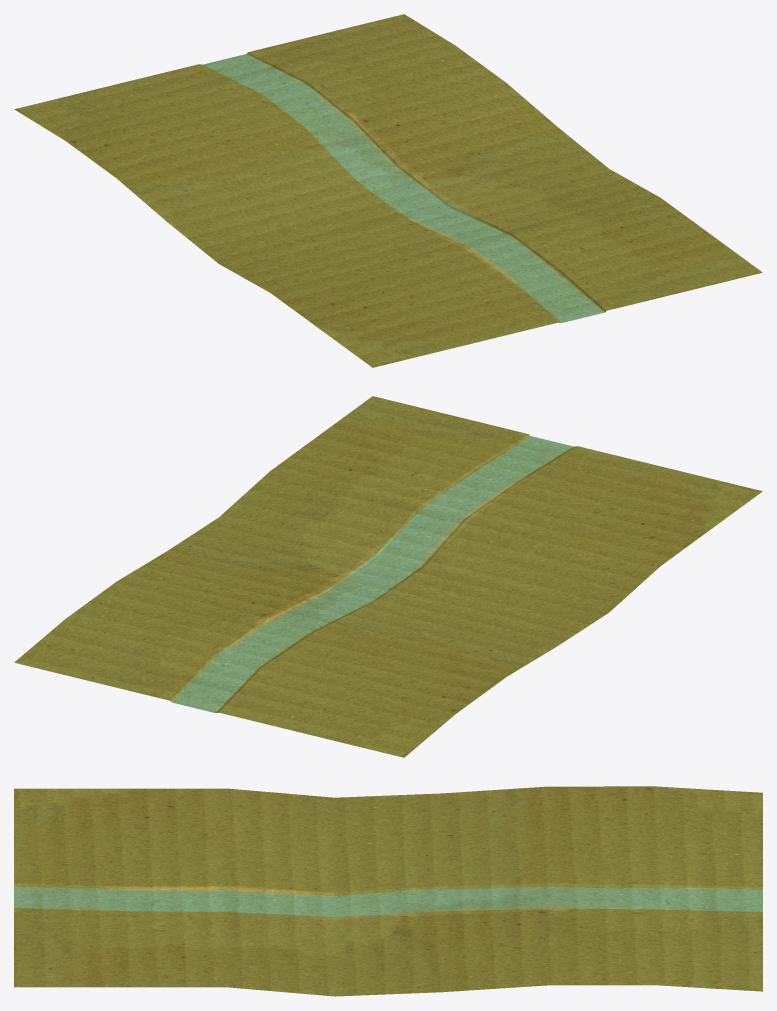
The model's file is 01Floor 2.FBX.
3 renders of one model, top to bottom at view 1: azimuth 30°, elevation 25°; view 2: azimuth 150°, elevation 25°; view 3: azimuth 270°, elevation 25°, orthographic. The views are drawn at different scales.
Visible parts, largest first — view 1: Plane001; view 2: Plane001; view 3: Plane001.
Part boxes in pixels (left/top/right/bottom): Plane001: left=14, top=14, right=762, bottom=367; Plane001: left=14, top=396, right=762, bottom=757; Plane001: left=14, top=786, right=762, bottom=996.
Size of the model in its own units: 164 by 4.85 by 261.
Materials: 1 (1 with a texture image).
